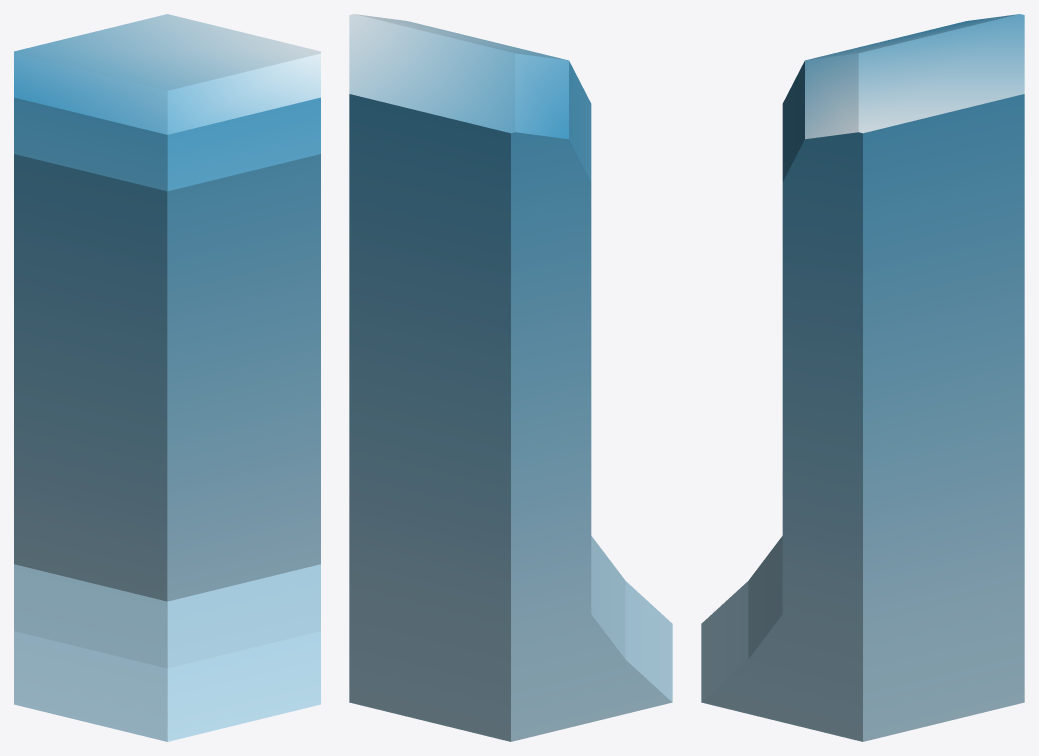
The model's file is WaterFall.fbx.
The picture shows the model from 3 angles, left to right: view 1: azimuth 30°, elevation 25°; view 2: azimuth 150°, elevation 25°; view 3: azimuth 270°, elevation 25°; orthographic projection. The views are drawn at different scales.
Visible parts, largest first — view 1: WaterFall_LOD0; view 2: WaterFall_LOD0; view 3: WaterFall_LOD0.
Part boxes in pixels (x1,y1,x2,y2): WaterFall_LOD0: (14,14,320,741); WaterFall_LOD0: (349,14,672,741); WaterFall_LOD0: (701,14,1024,741).
Size of the model in its own units: 500 by 900 by 433.
